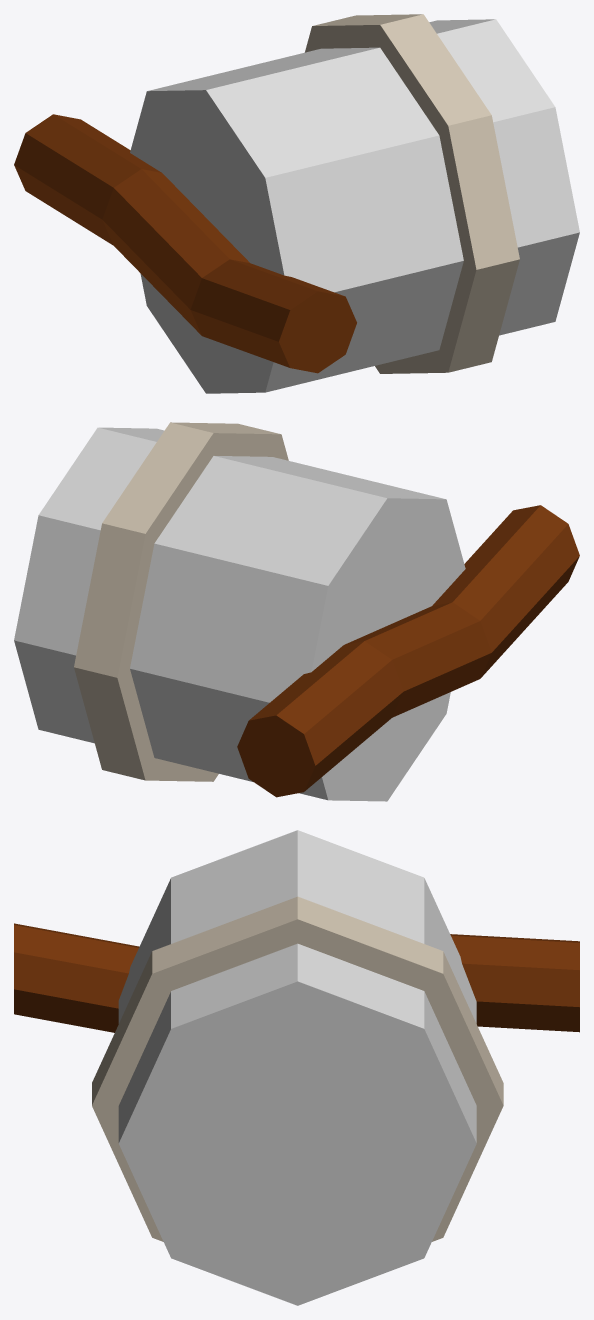
File: Poignée_New_Court.FBX
3 views of the same model, one above another, from view 1: azimuth 30°, elevation 25°; view 2: azimuth 150°, elevation 25°; view 3: azimuth 270°, elevation 25° (orthographic). The views are drawn at different scales.
Visible parts, largest first — view 1: Cylinder215; view 2: Cylinder215; view 3: Cylinder215.
Part boxes in pixels (left/top/right/bottom): Cylinder215: left=14, top=14, right=579, bottom=393; Cylinder215: left=14, top=422, right=579, bottom=801; Cylinder215: left=14, top=830, right=579, bottom=1305.
Bounding box in the file's own units: 95.02 × 90.55 × 124.
